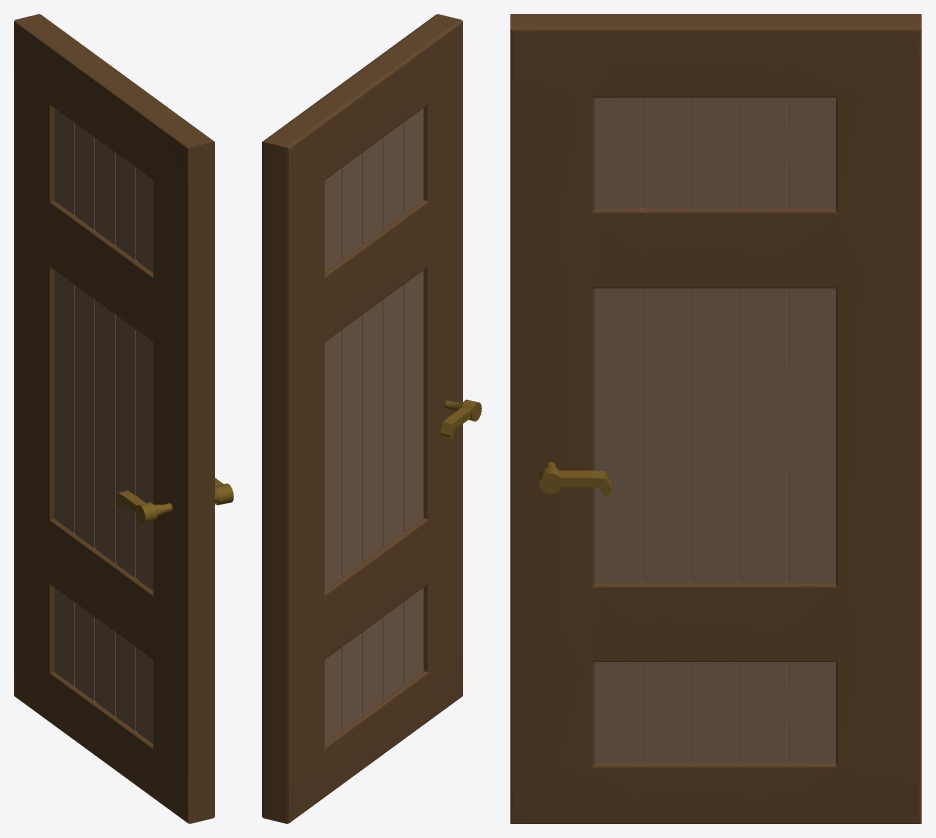
File: Door.fbx
3 views of the same model, side by side, from view 1: azimuth 30°, elevation 25°; view 2: azimuth 150°, elevation 25°; view 3: azimuth 270°, elevation 25° (orthographic). The views are drawn at different scales.
Visible parts, largest first — view 1: Door, Handle; view 2: Door, Handle; view 3: Door, Handle.
Part boxes in pixels (<box>): Door: <box>14,14,214,823</box>; Handle: <box>115,478,233,524</box>; Door: <box>262,14,462,823</box>; Handle: <box>440,399,481,439</box>; Door: <box>510,14,921,823</box>; Handle: <box>539,462,611,496</box>.
Bounding box in the file's own units: 2.86 × 20.86 × 9.77.
